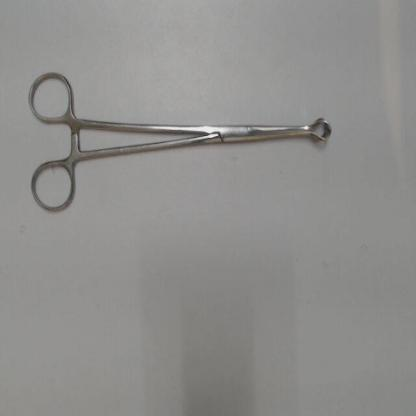8 Babcock Tissue Forceps: (25, 64, 341, 218)
